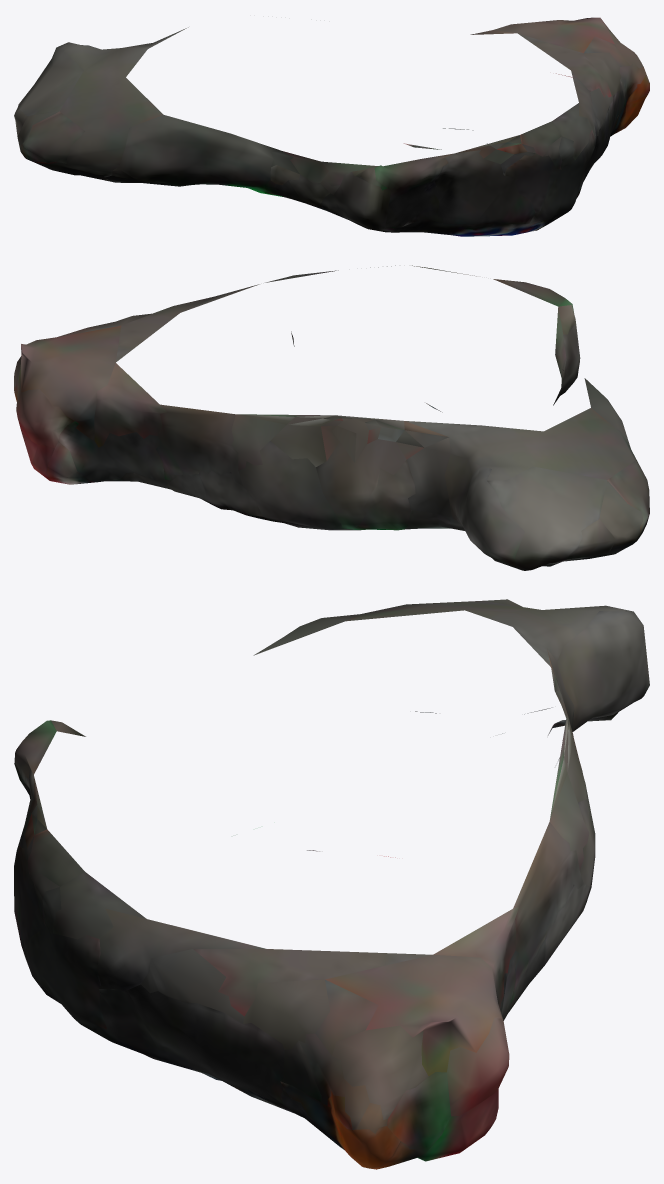
Rendered from hall.glb.
3 renders of one model, top to bottom at view 1: azimuth 30°, elevation 25°; view 2: azimuth 150°, elevation 25°; view 3: azimuth 270°, elevation 25°, orthographic. The views are drawn at different scales.
Size of the model in its own units: 0.8488 by 0.2146 by 0.5282.
1 material, 1 textured.
